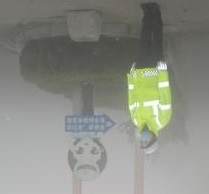person: (126, 1, 173, 154)
